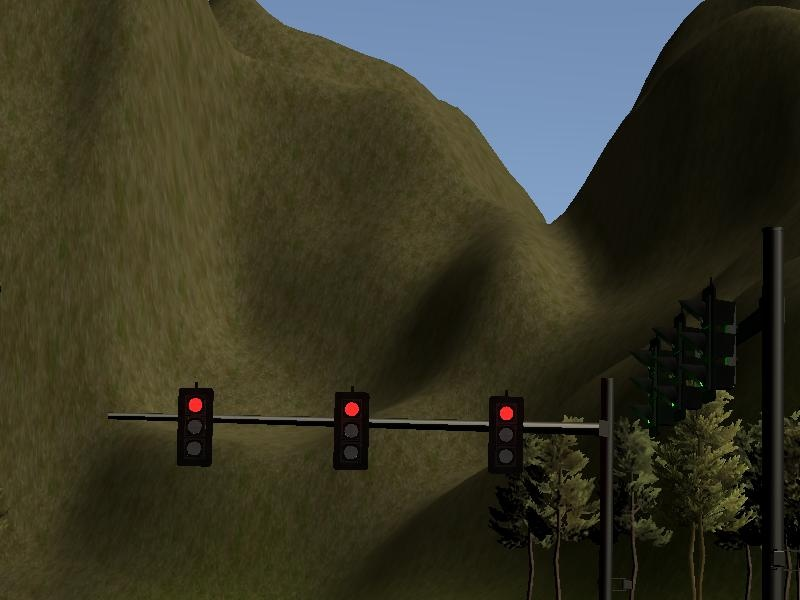red: (175, 384, 219, 473), (330, 384, 374, 473), (486, 390, 524, 478)
